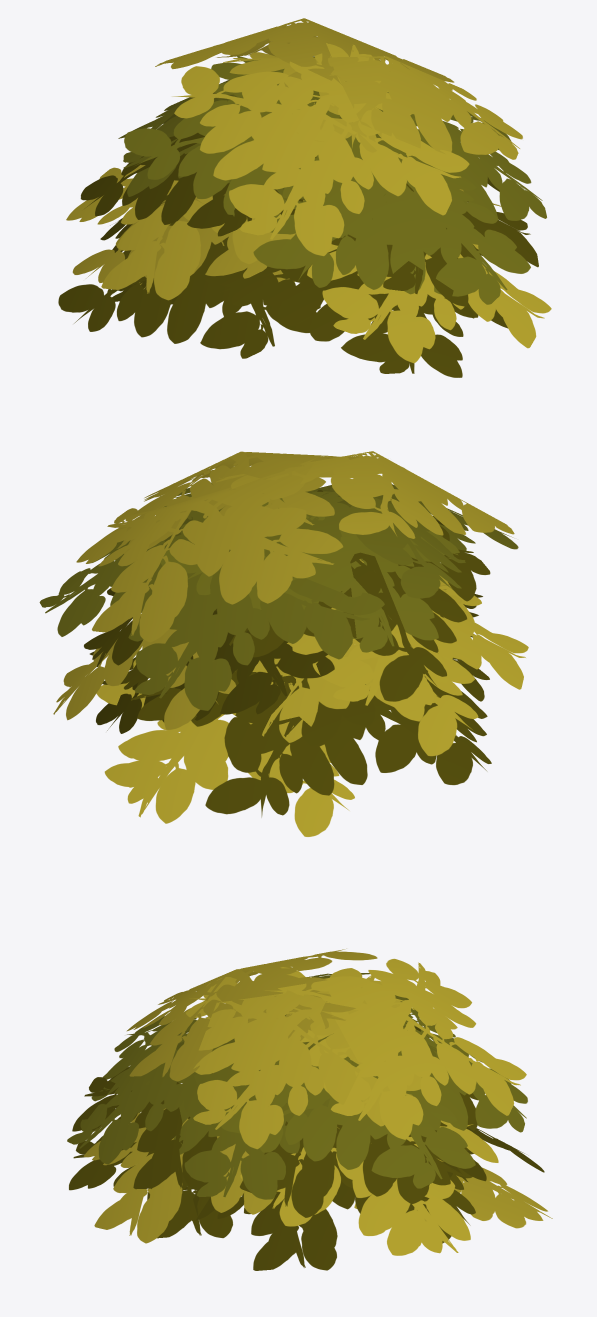
Rendered from arbusto_proj2.gltf.
3 renders of one model, top to bottom at view 1: azimuth 30°, elevation 25°; view 2: azimuth 150°, elevation 25°; view 3: azimuth 270°, elevation 25°, orthographic. The views are drawn at different scales.
Visible parts, largest first — view 1: folhas claras.001, folhas escuras.006, folhas medias.001, folhas medias.012; view 2: folhas claras.001, folhas escuras.006, folhas medias.012, folhas medias.001; view 3: folhas claras.001, folhas escuras.006, folhas medias.001, folhas medias.012.
Part boxes in pixels (x1=…): folhas claras.001: x1=66, y1=18, x2=551, y2=363; folhas escuras.006: x1=58, y1=132, x2=538, y2=377; folhas medias.001: x1=123, y1=56, x2=546, y2=304; folhas medias.012: x1=118, y1=55, x2=511, y2=242; folhas claras.001: x1=53, y1=451, x2=528, y2=836; folhas escuras.006: x1=84, y1=490, x2=491, y2=817; folhas medias.012: x1=39, y1=482, x2=475, y2=710; folhas medias.001: x1=160, y1=483, x2=518, y2=652; folhas claras.001: x1=83, y1=948, x2=552, y2=1255; folhas escuras.006: x1=69, y1=1023, x2=544, y2=1270; folhas medias.001: x1=67, y1=1016, x2=436, y2=1199; folhas medias.012: x1=176, y1=973, x2=527, y2=1188.
Size of the model in its own units: 3.06 by 1.66 by 3.21.
3 materials, 3 textured.
